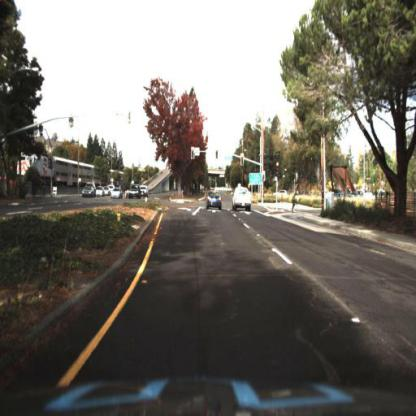biker: (292, 191, 300, 212)
car: (233, 183, 253, 215), (205, 193, 223, 211), (128, 182, 142, 200), (83, 184, 98, 200), (130, 185, 143, 201), (83, 183, 95, 200), (111, 186, 122, 202), (111, 189, 123, 202), (278, 187, 291, 199), (95, 184, 105, 197), (97, 185, 106, 198), (141, 185, 149, 199)
trafficLight-Red: (277, 155, 282, 171), (275, 162, 281, 172)
